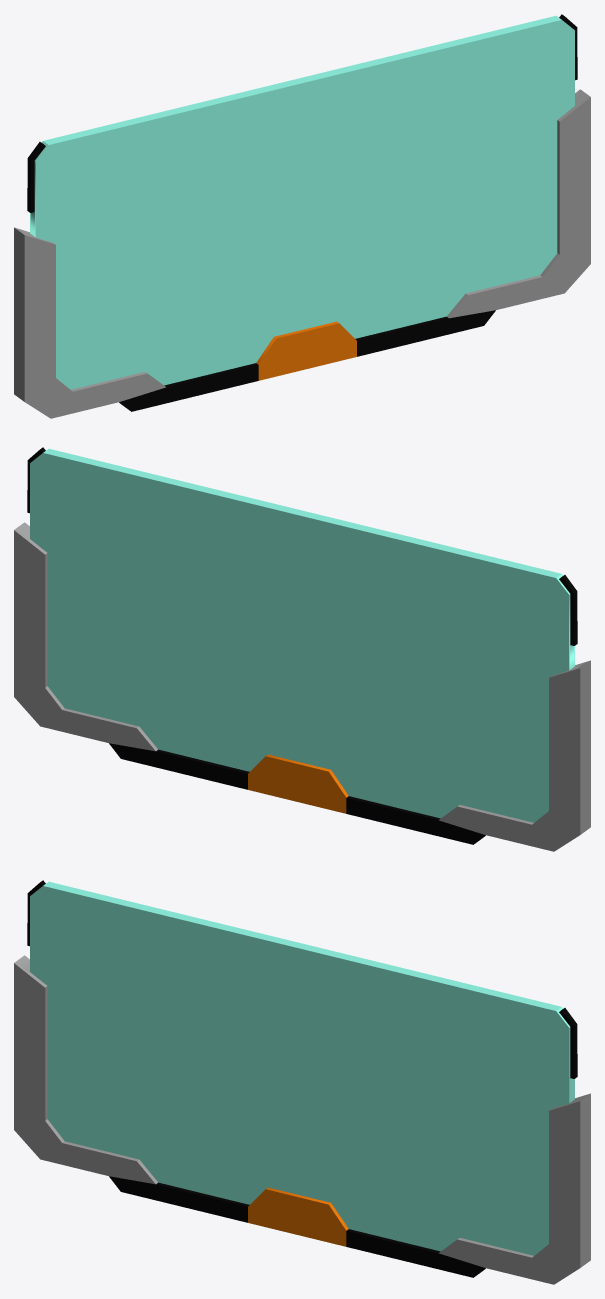
The model's file is SM_schermo01.fbx.
3 views of the same model, one above another, from view 1: azimuth 30°, elevation 25°; view 2: azimuth 150°, elevation 25°; view 3: azimuth 330°, elevation 25° (orthographic).
Visible parts, largest first — view 1: schermo1_lp; view 2: schermo1_lp; view 3: schermo1_lp.
Boxes of the visible parts, x1,y1,x2,y2 form: schermo1_lp: (14, 14, 590, 418); schermo1_lp: (14, 447, 590, 851); schermo1_lp: (14, 880, 590, 1284).
Bounding box in the file's own units: 137 × 66.02 × 4.47.
Materials: 1 (1 with a texture image).
